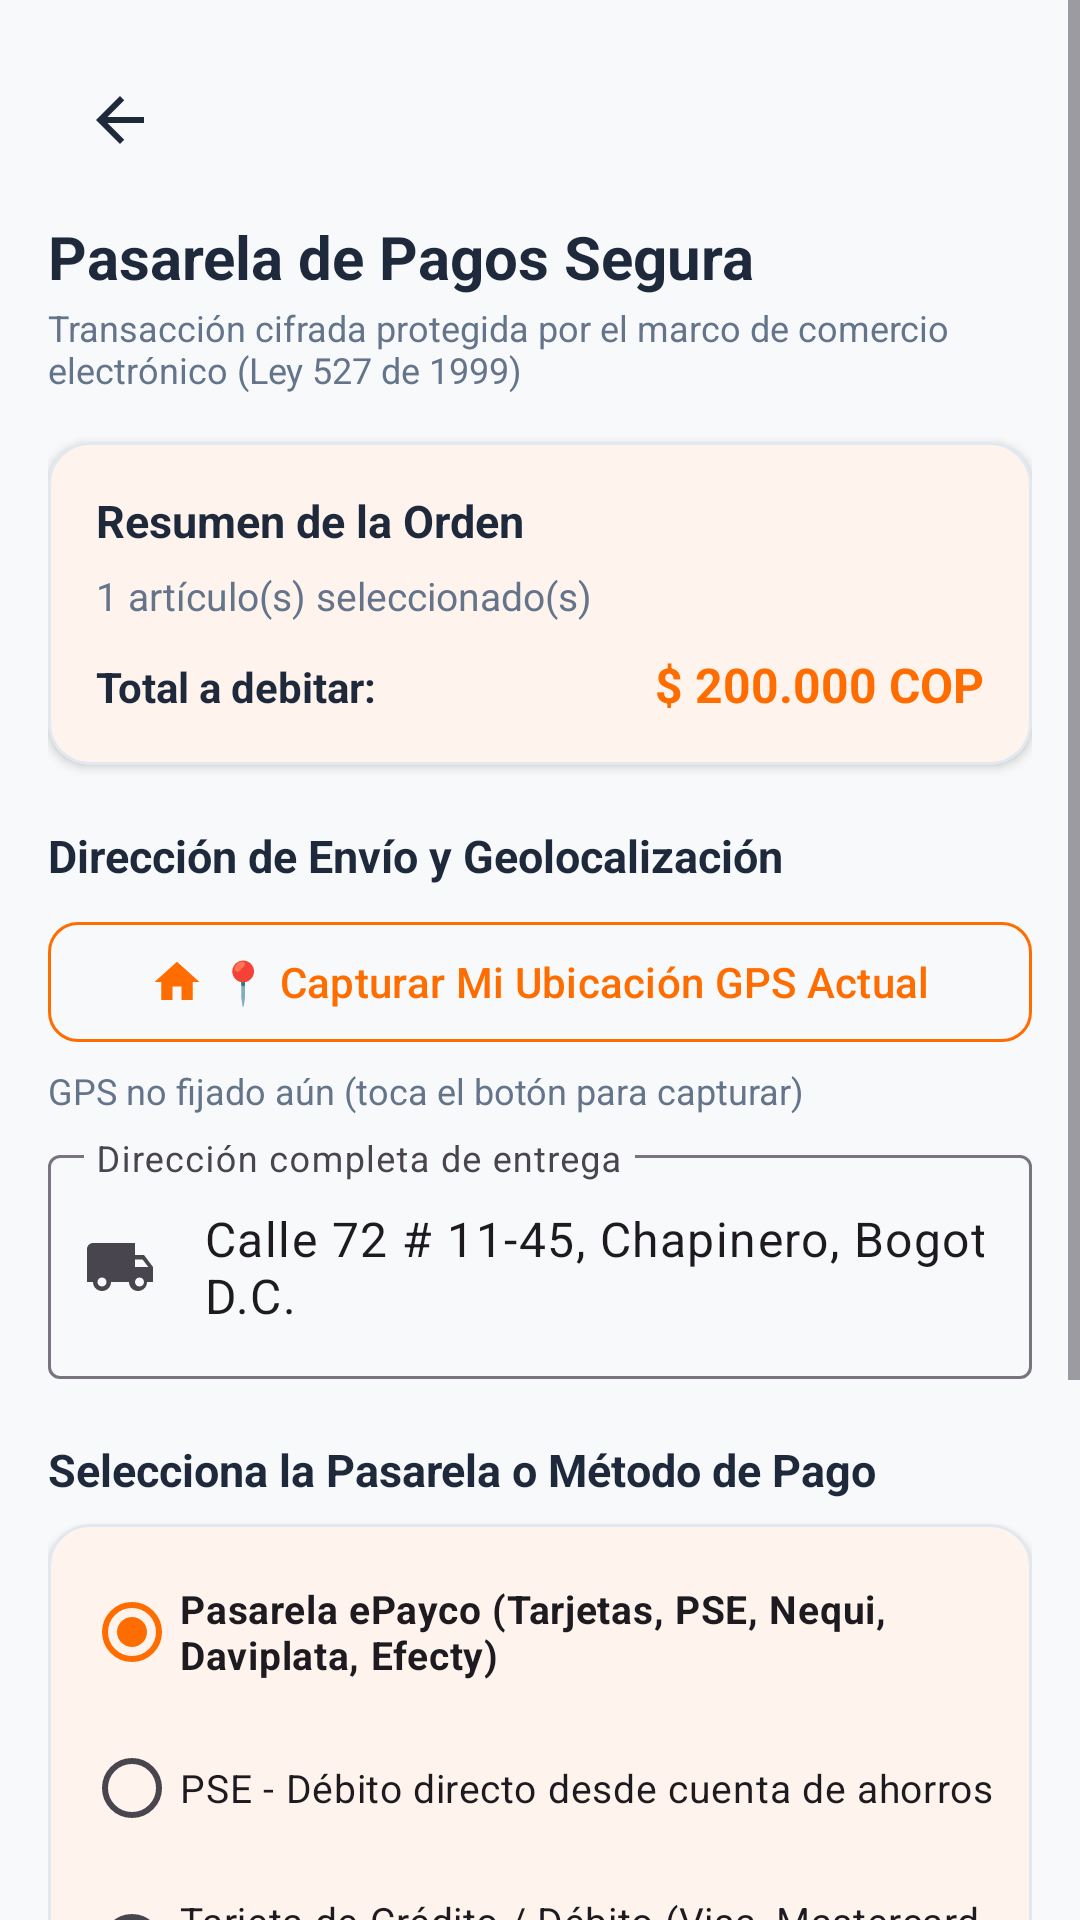

Named icons in this screenshot (1080 × 1920) and their bounding boxes, (x1, y1, x2, y2):
Regresar al carrito: (96, 96, 144, 144)
